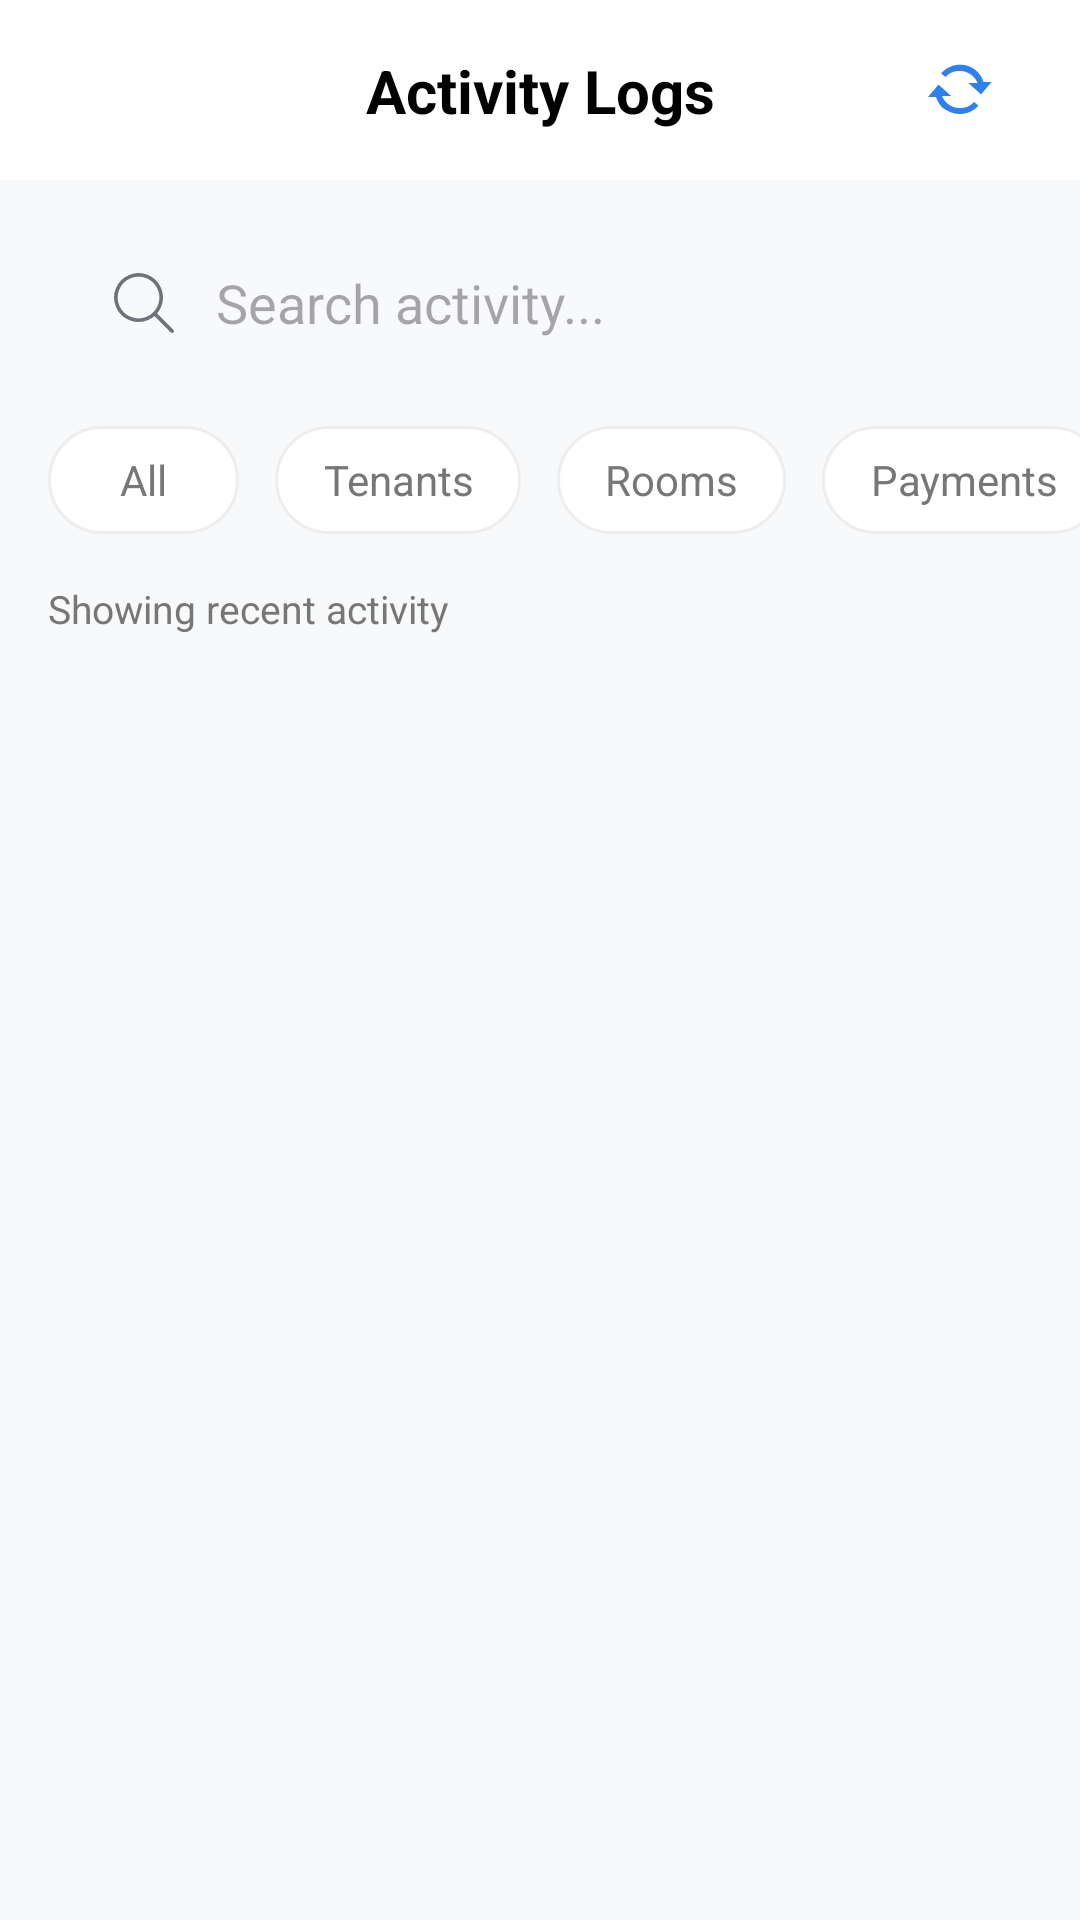

Point at icon controls on the screen. Image size 1080×1920, points as point (x, y).
sync: point (960, 89)
